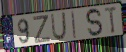9: (17, 18, 31, 46)
I: (71, 11, 77, 40)
S: (85, 7, 104, 39)
T: (104, 6, 118, 36)
U: (50, 12, 68, 42)
Z: (32, 14, 51, 44)
